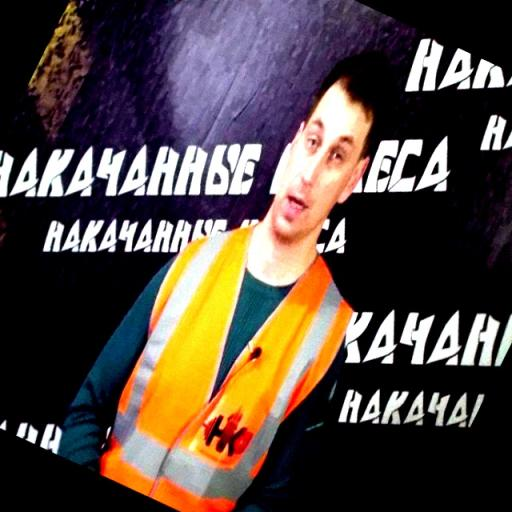Person: (41, 47, 423, 512)
